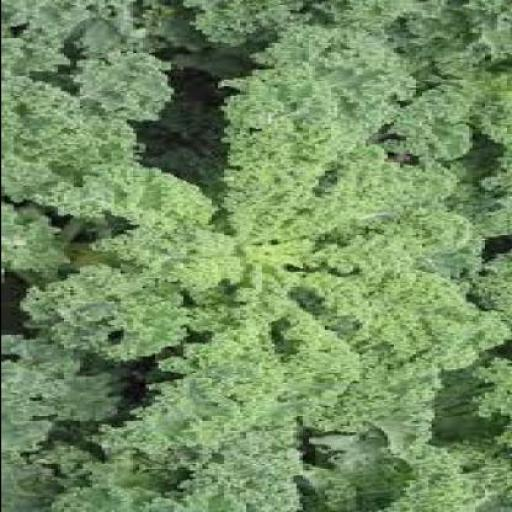biodegradable: (1, 1, 511, 512)
